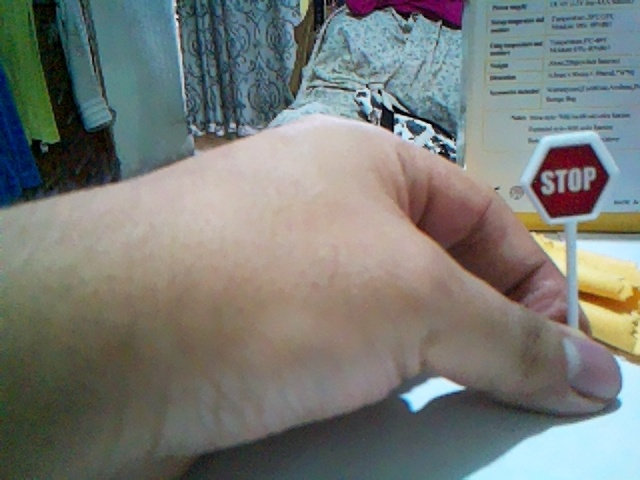stop_sign: (521, 132, 618, 224)
